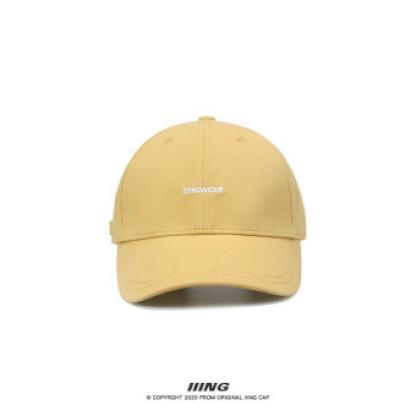cap: (96, 111, 314, 316)
